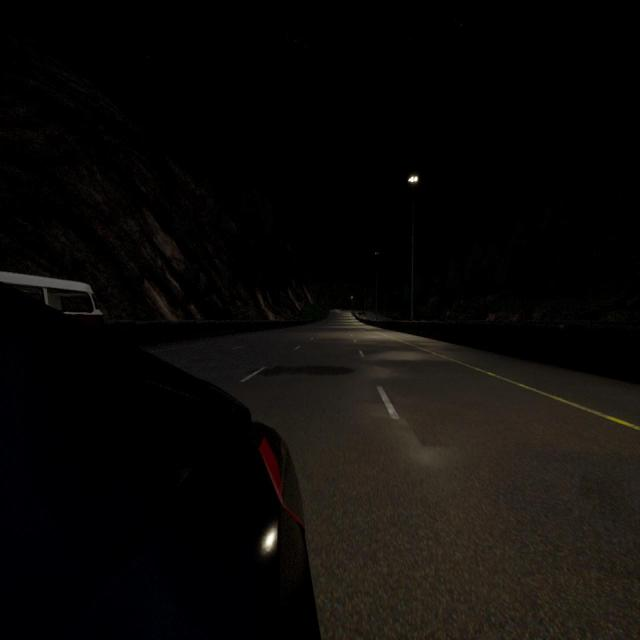Vehicle: (0, 286, 319, 640), (0, 272, 101, 322)
